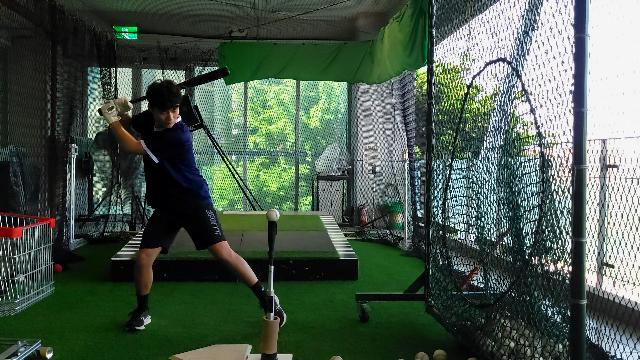ball: (265, 209, 281, 222)
bat: (132, 66, 230, 104)
